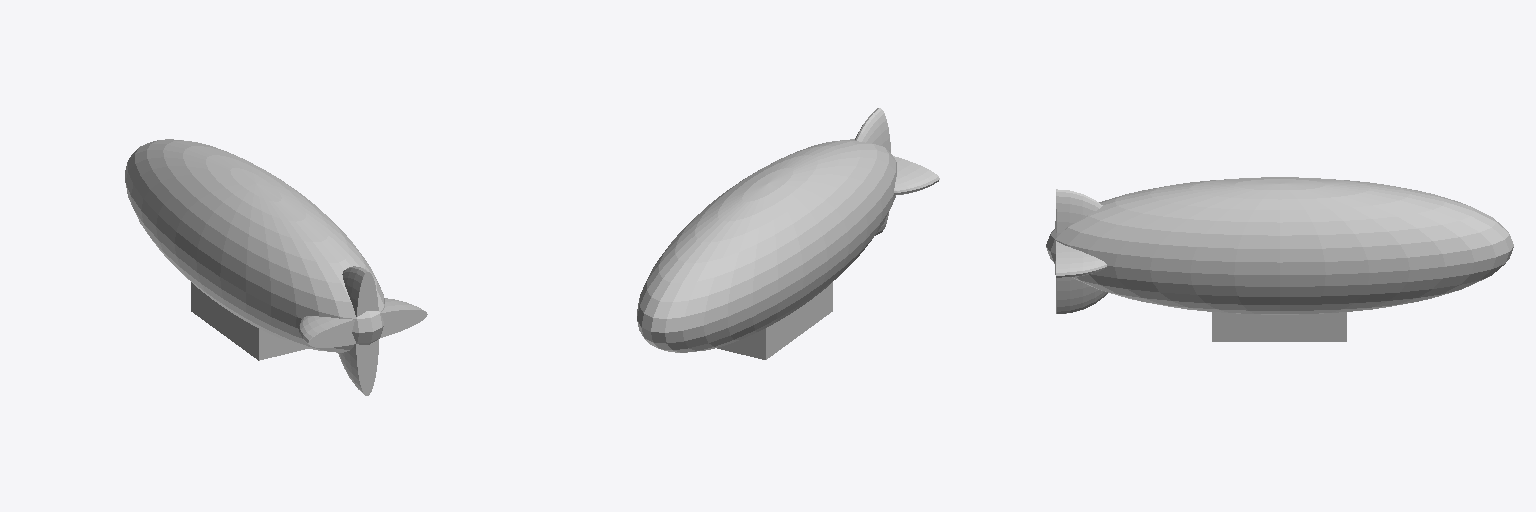
File: dirigible.obj
3 renders of one model, left to right at view 1: azimuth 30°, elevation 25°; view 2: azimuth 150°, elevation 25°; view 3: azimuth 270°, elevation 25°, orthographic.
Visible parts, largest first — view 1: Sphere; view 2: Sphere; view 3: Sphere.
Boxes of the visible parts, x1,y1,x2,y2 form: Sphere: [125, 139, 427, 395]; Sphere: [637, 108, 939, 359]; Sphere: [1046, 177, 1513, 341].
Size of the model in its own units: 1.52 by 1.76 by 5.16.